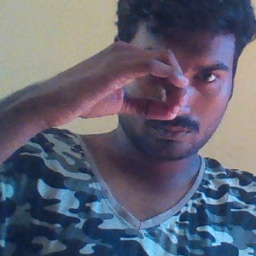O: (57, 38, 193, 127)
